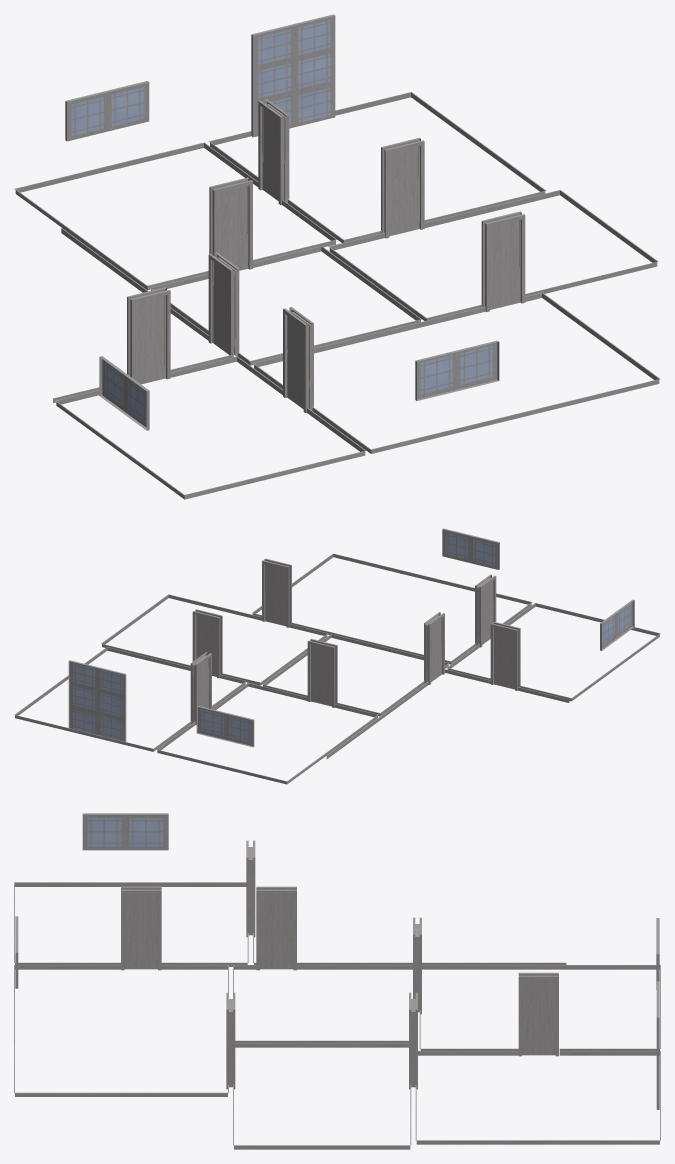
Rendered from Casa_ACCESSORI.fbx.
3 views of the same model, one above another, from view 1: azimuth 30°, elevation 25°; view 2: azimuth 150°, elevation 25°; view 3: azimuth 270°, elevation 25° (orthographic). The views are drawn at different scales.
Visible parts, largest first — view 1: zoccooletti, FINESTRA, FINESTRA.003, FINESTRA.002, porta salotto, porta bagno, porta studio, porta ingresso, FINESTRA.001, porta camera, porta cucina, porta giardino; view 2: zoccooletti, FINESTRA, FINESTRA.003, FINESTRA.002, porta bagno, porta studio, porta ingresso, FINESTRA.001, porta salotto, porta giardino, porta camera, porta cucina; view 3: zoccooletti, FINESTRA.001, porta cucina, porta giardino, porta camera, FINESTRA.
Part boxes in pixels (left/top/right/bottom): zoccooletti: left=14, top=92, right=660, bottom=499; FINESTRA: left=251, top=14, right=335, bottom=137; FINESTRA.003: left=65, top=81, right=149, bottom=141; FINESTRA.002: left=415, top=340, right=499, bottom=400; porta salotto: left=389, top=146, right=418, bottom=236; porta bagno: left=490, top=220, right=519, bottom=309; porta studio: left=135, top=296, right=164, bottom=384; porta ingresso: left=217, top=186, right=246, bottom=270; FINESTRA.001: left=99, top=356, right=149, bottom=430; porta camera: left=288, top=316, right=303, bottom=409; porta cucina: left=263, top=108, right=278, bottom=200; porta giardino: left=213, top=262, right=228, bottom=354; zoccooletti: left=14, top=553, right=660, bottom=784; FINESTRA: left=68, top=660, right=126, bottom=741; FINESTRA.003: left=196, top=706, right=254, bottom=747; FINESTRA.002: left=442, top=528, right=499, bottom=569; porta bagno: left=266, top=564, right=286, bottom=626; porta studio: left=494, top=627, right=514, bottom=689; porta ingresso: left=311, top=645, right=331, bottom=706; FINESTRA.001: left=600, top=599, right=634, bottom=650; porta salotto: left=197, top=615, right=216, bottom=676; porta giardino: left=431, top=618, right=441, bottom=682; porta camera: left=482, top=581, right=492, bottom=644; porta cucina: left=198, top=658, right=208, bottom=708; zoccooletti: left=14, top=840, right=660, bottom=1149; FINESTRA.001: left=82, top=813, right=168, bottom=850; porta cucina: left=523, top=980, right=554, bottom=1055; porta giardino: left=261, top=894, right=292, bottom=969; porta camera: left=126, top=894, right=156, bottom=969; FINESTRA: left=656, top=981, right=659, bottom=1109.
Size of the model in its own units: 1567 by 257 by 1626.
